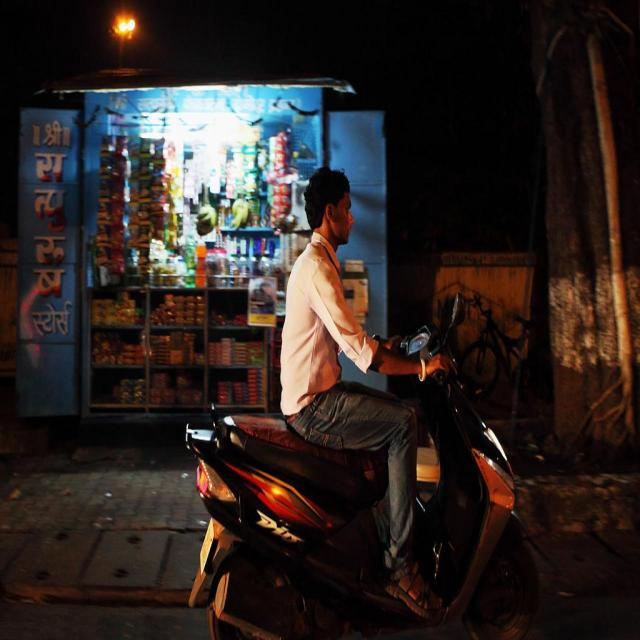Motorbike: (102, 330, 607, 635)
People: (290, 157, 406, 630)
